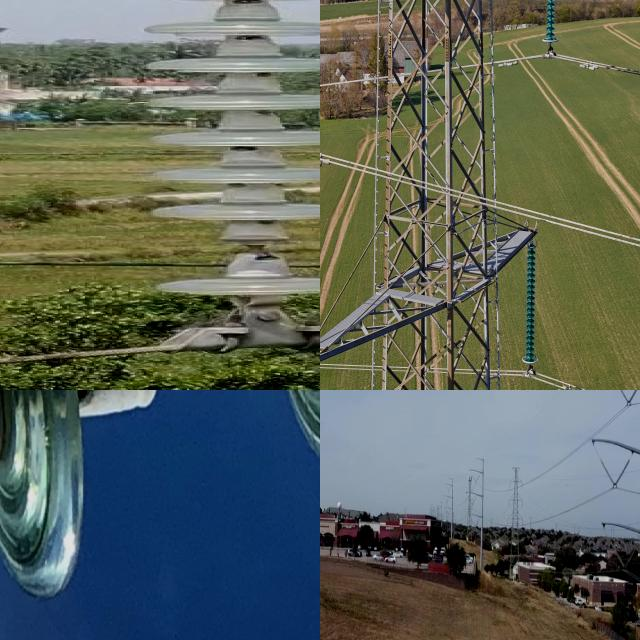杆塔: (320, 0, 574, 390), (501, 458, 527, 590)
正常电缆: (320, 143, 640, 257), (320, 45, 640, 94), (320, 353, 631, 390)
正常绝缘子: (94, 0, 320, 346), (0, 390, 320, 611), (519, 222, 545, 378), (605, 452, 634, 497), (592, 449, 620, 495), (543, 0, 562, 65), (617, 539, 640, 584), (607, 533, 629, 576), (622, 390, 640, 414), (617, 390, 633, 413)
绝缘子破损: (217, 225, 293, 268)
